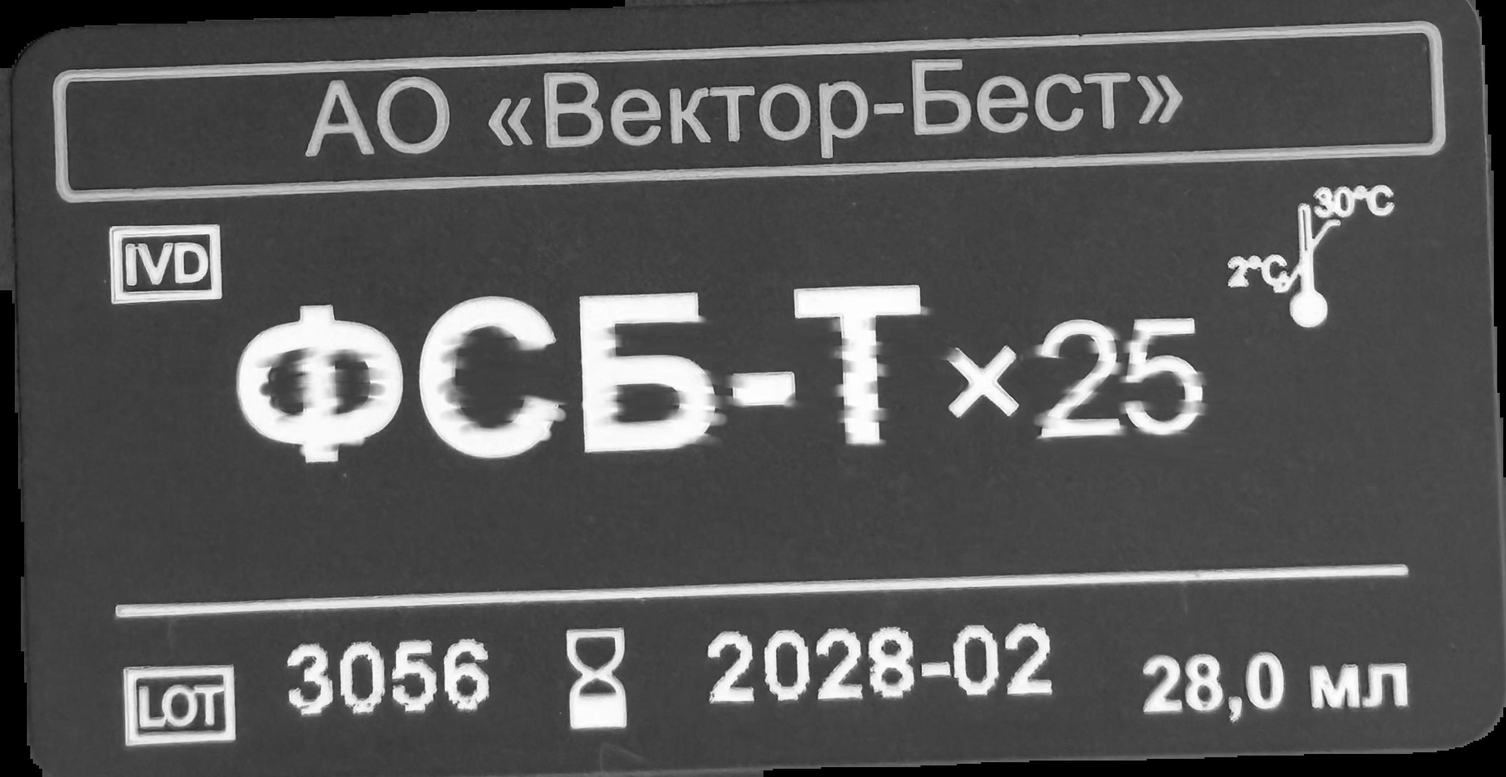something: (1223, 183, 1395, 333), (119, 661, 238, 751), (106, 220, 224, 305), (564, 626, 629, 732)
text: (229, 283, 1206, 468), (306, 56, 1197, 160), (706, 621, 1055, 705), (1141, 651, 1411, 725), (284, 638, 497, 714)
